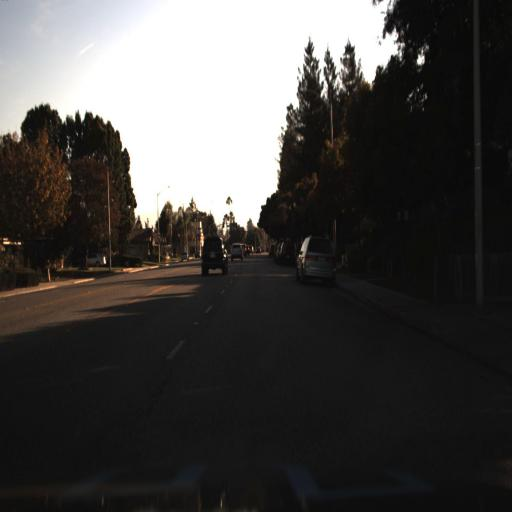car: (293, 232, 338, 287), (197, 232, 226, 278), (82, 252, 108, 270), (226, 240, 244, 260), (179, 248, 189, 264)
